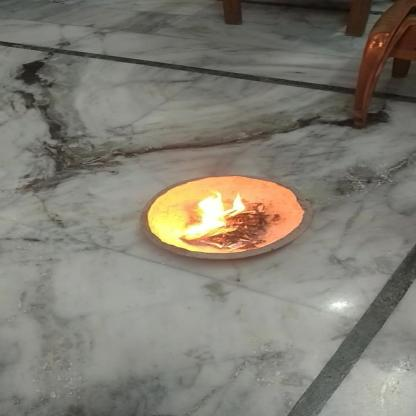fire: (181, 189, 248, 240)
